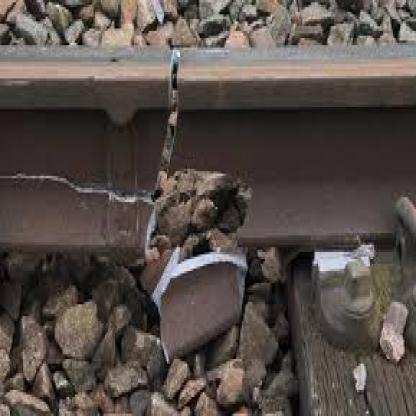Defective: (37, 24, 384, 288)
